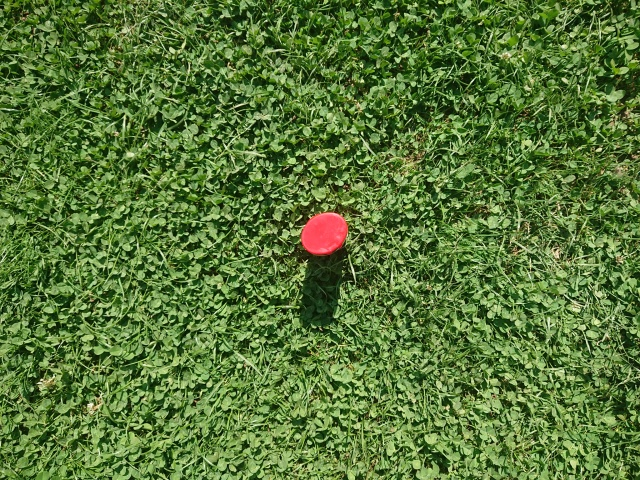Kotanyi Curry Spices Mix 70g: (299, 210, 350, 258)
